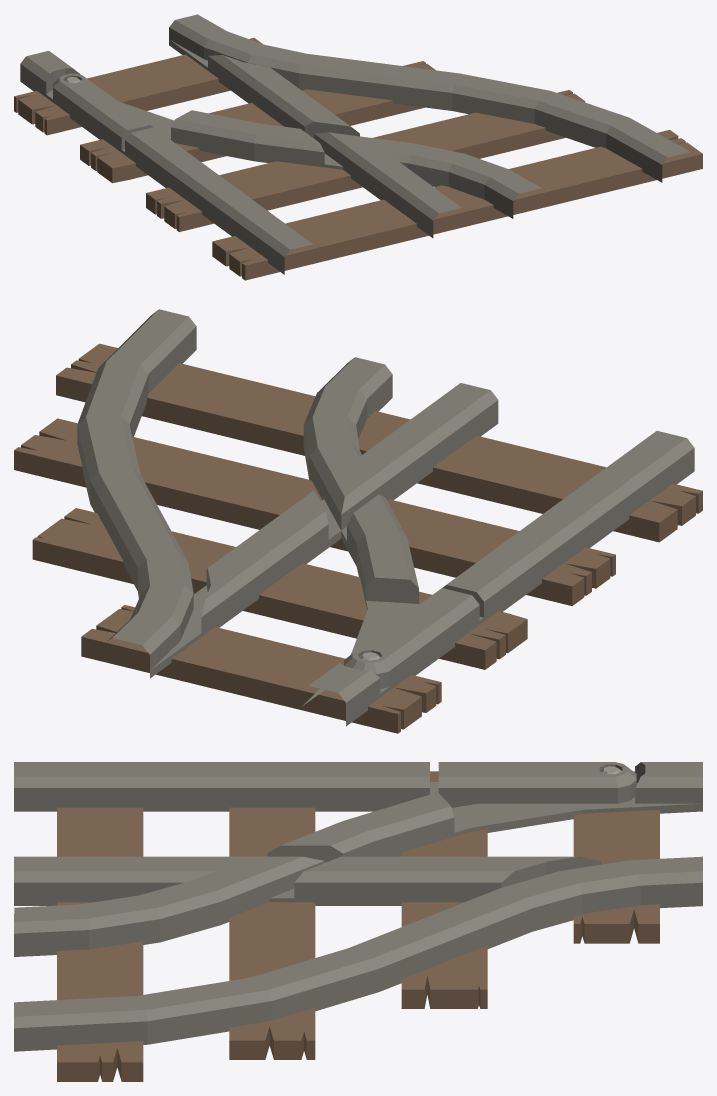
Rendered from Cave_Prop_Railway_Switch.glb.
3 renders of one model, top to bottom at view 1: azimuth 30°, elevation 25°; view 2: azimuth 150°, elevation 25°; view 3: azimuth 270°, elevation 25°, orthographic. The views are drawn at different scales.
Visible parts, largest first — view 1: Cave_Prop_Railway_Switch; view 2: Cave_Prop_Railway_Switch; view 3: Cave_Prop_Railway_Switch.
Boxes of the visible parts, x1,y1,x2,y2 form: Cave_Prop_Railway_Switch: [14, 14, 702, 280]; Cave_Prop_Railway_Switch: [14, 309, 702, 733]; Cave_Prop_Railway_Switch: [14, 762, 702, 1081].
Size of the model in its own units: 2 by 0.15 by 2.
